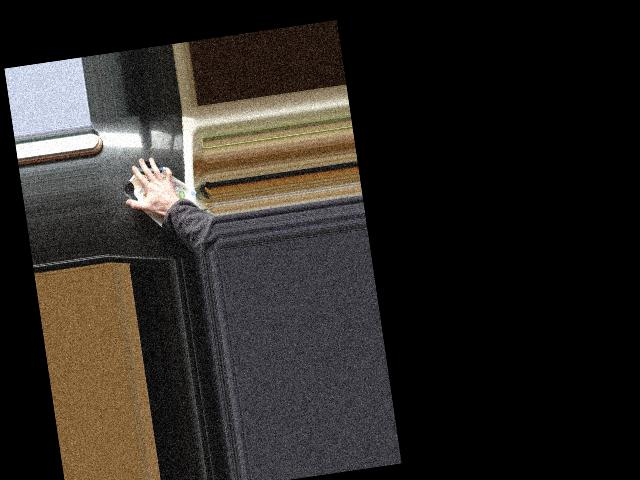cheese: (117, 151, 203, 236)
